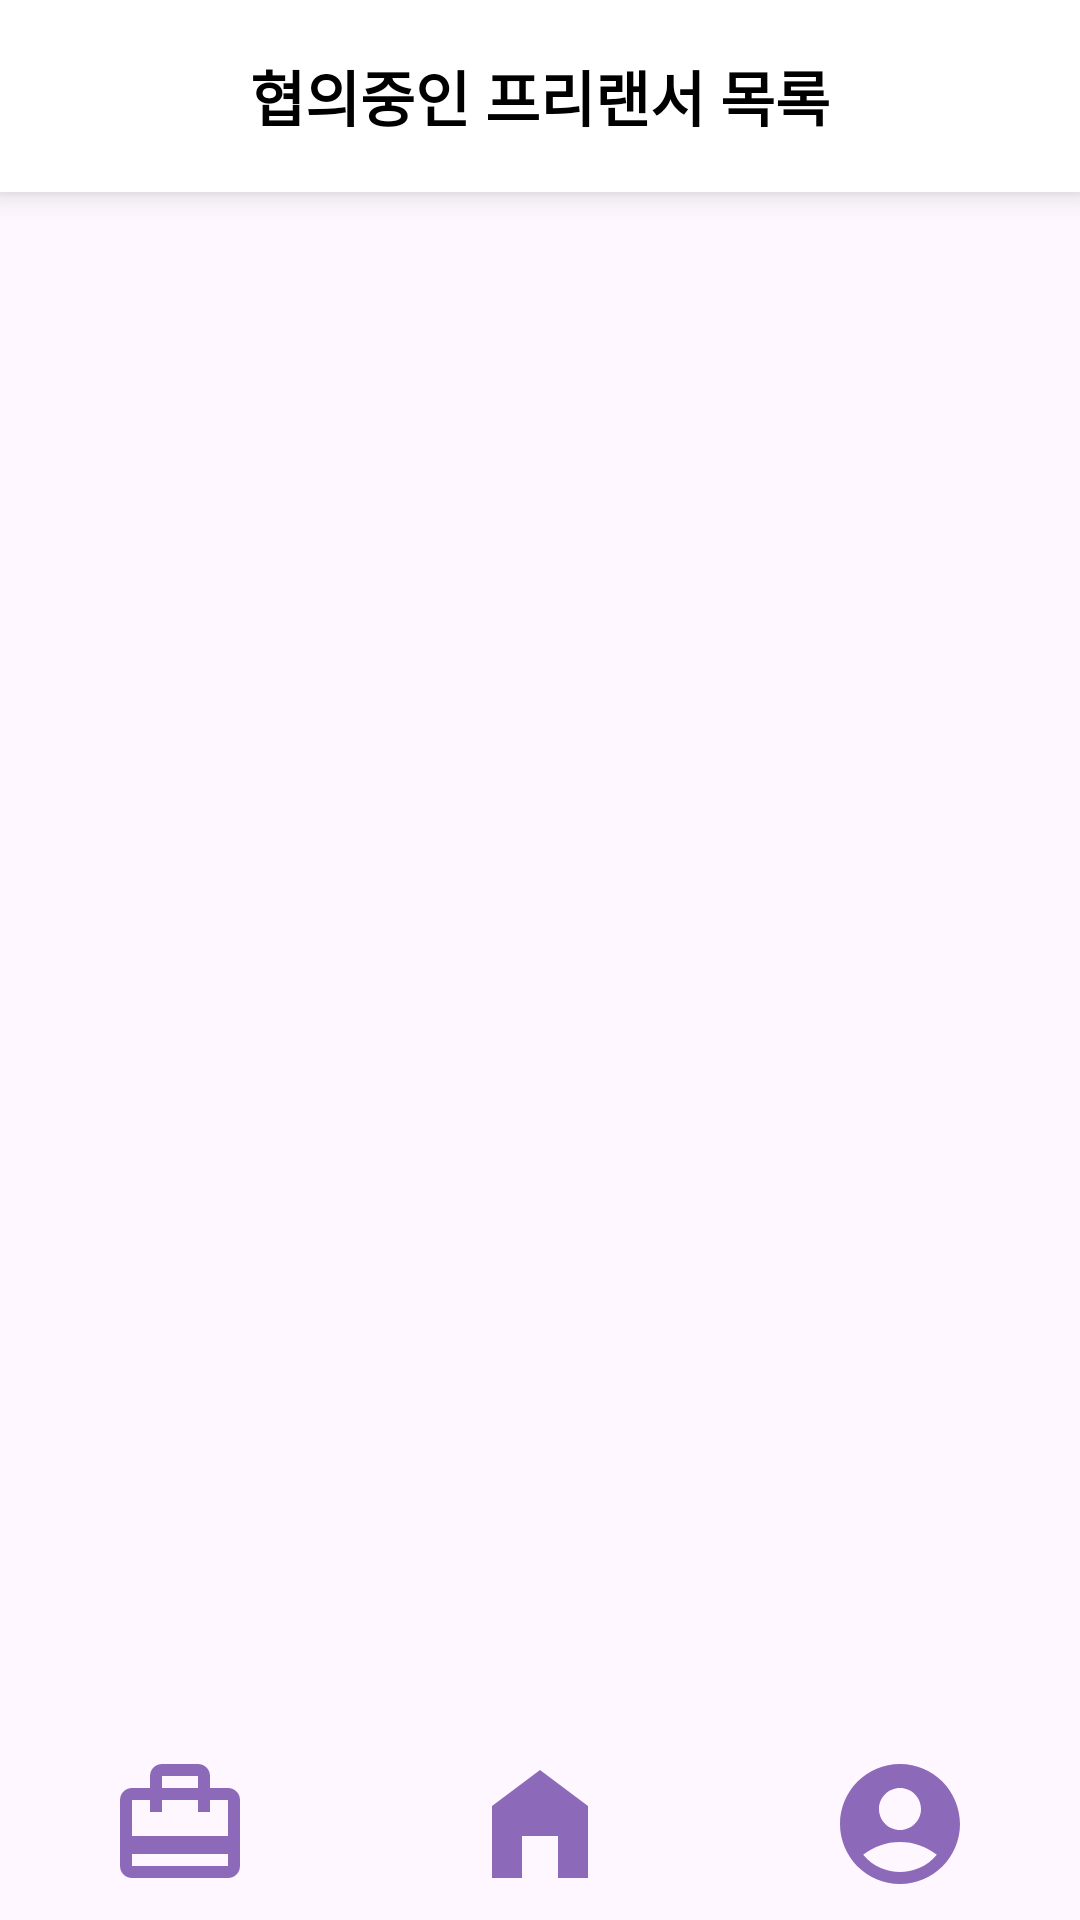

Locate icon controls on the screen. Image size 1080 × 1920, boxes as (x1, y1, x2, y2).
home: (492, 1770, 588, 1878)
projects: (120, 1764, 240, 1878)
